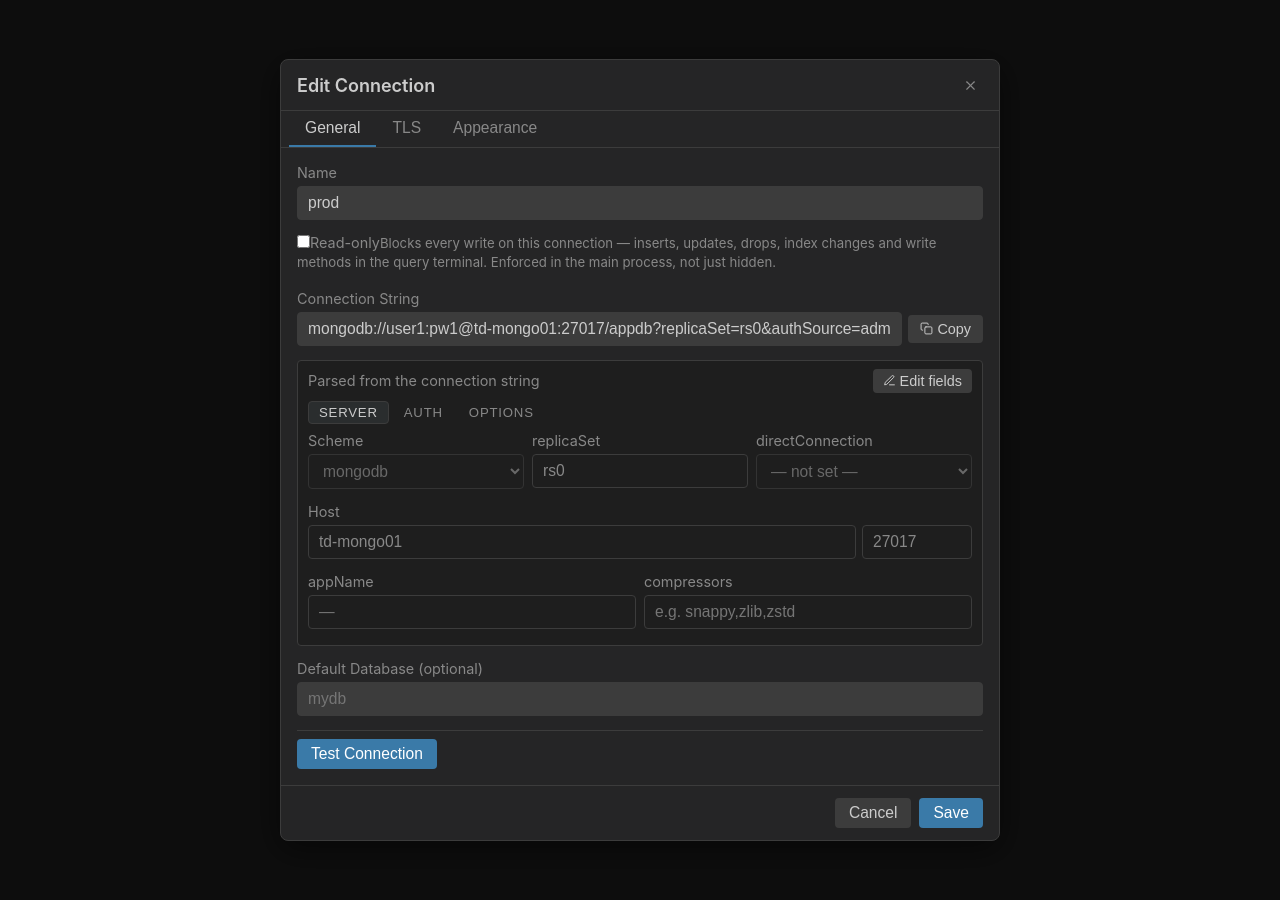
Test case: ConnectionModal — connection string breakdown › keeps the breakdown in sync while the string is still the source of truth
Replace the text in the 2nd field with placeholder "mongodb://localhost:27017" with "mongodb://other-host:27018/other" at (600, 329), box [297,312,902,346]
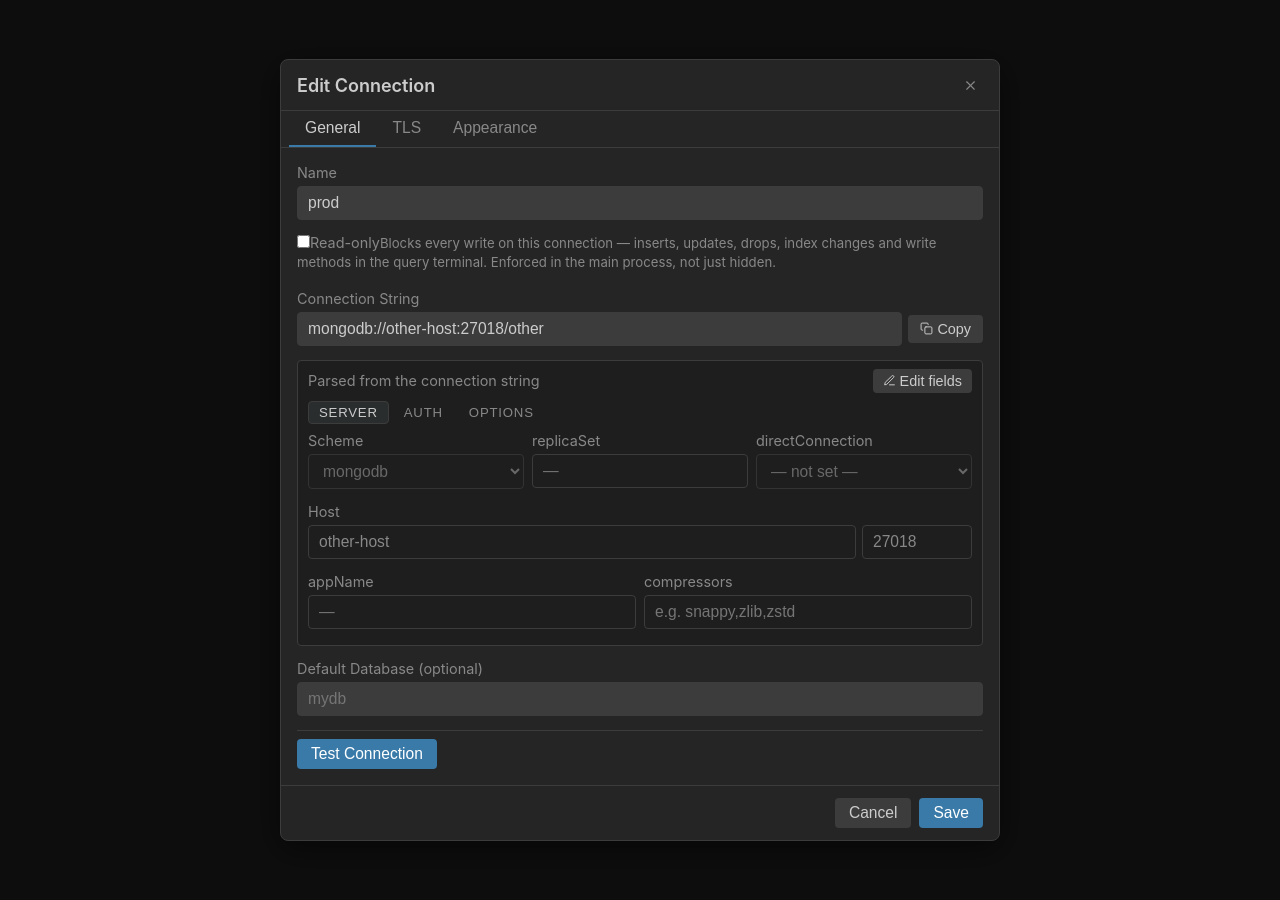
Expected: the field showing "other-host" is shown, [308,525,856,559]
Expected: the field showing "27018" is shown, [862,525,972,559]
Click the button "Auth".
click(423, 412)  # box [393,401,454,424]
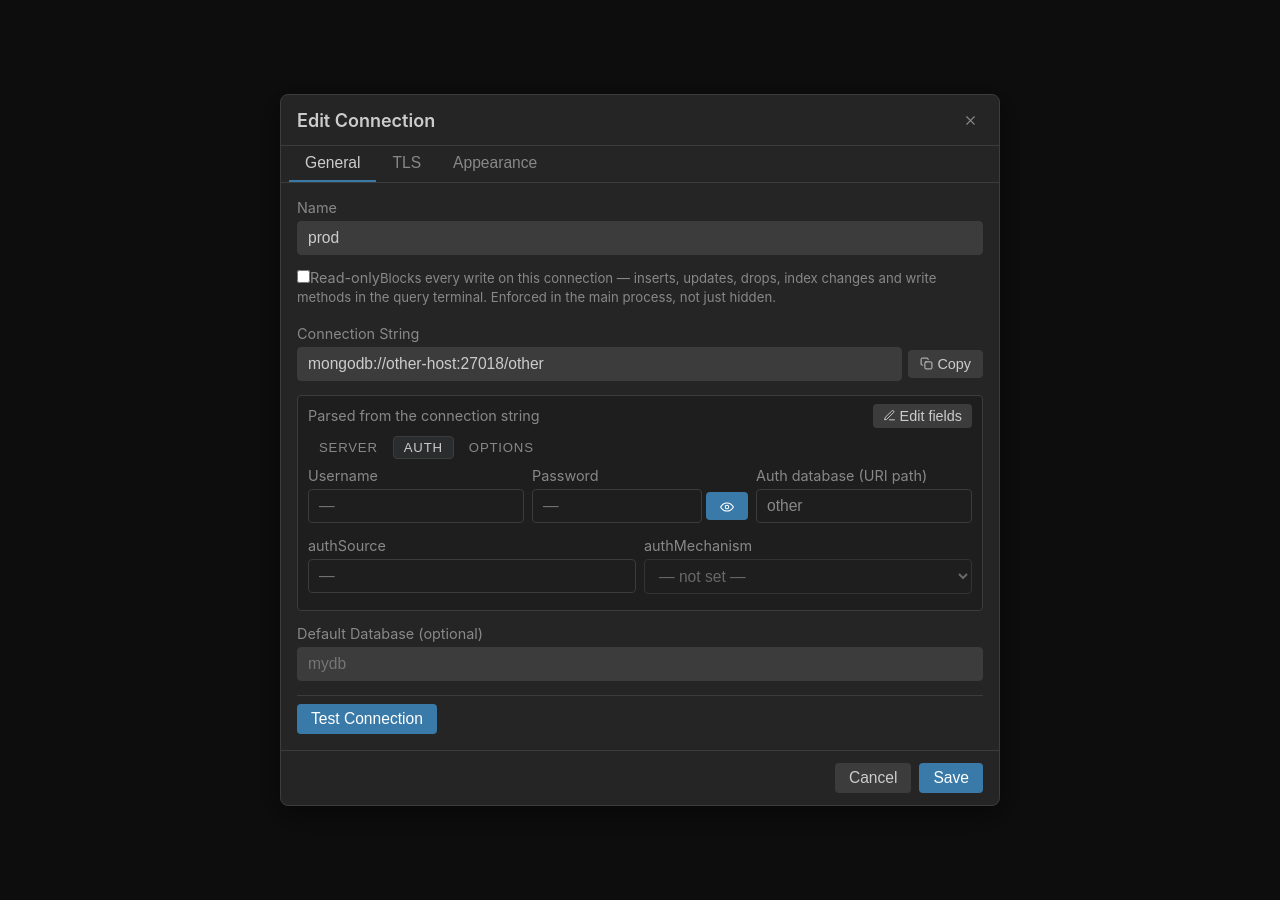
Expected: the field showing "other" is shown, [756,489,972,523]
